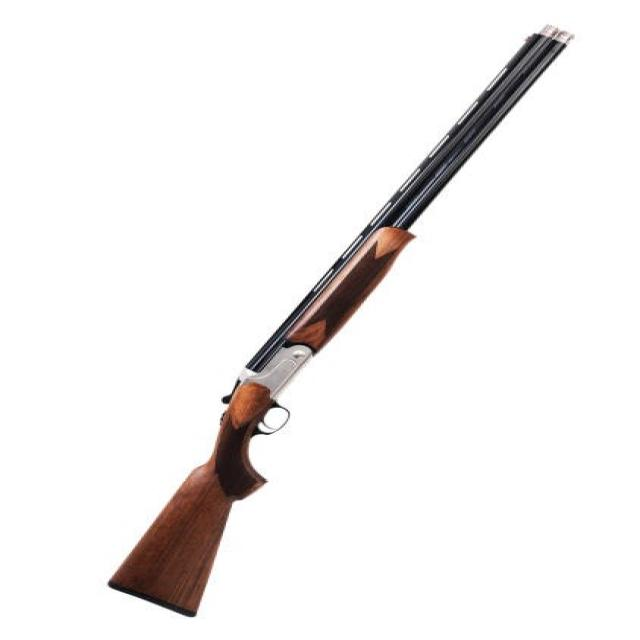rifle: (99, 20, 581, 629)
